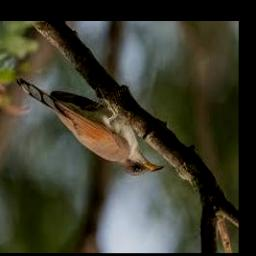Cuckoo: (17, 78, 165, 176)
